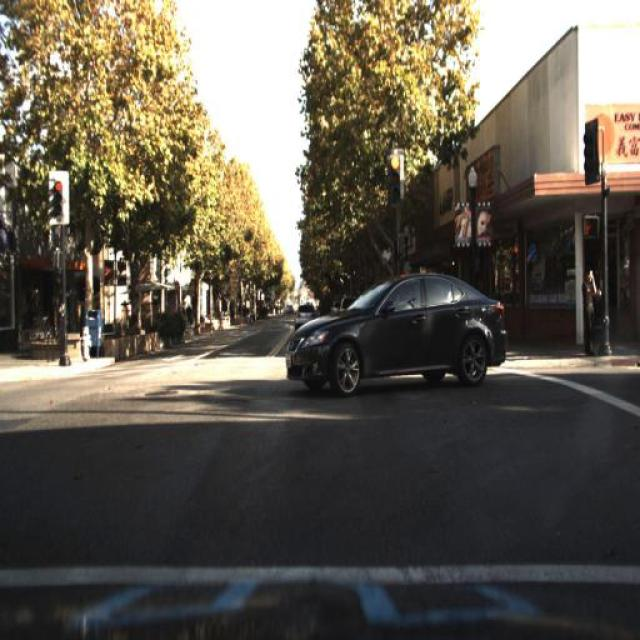car: (274, 258, 517, 403)
trafficLight: (578, 260, 601, 360)
trafficLight-RedLeft: (49, 170, 67, 222), (386, 148, 402, 204)
